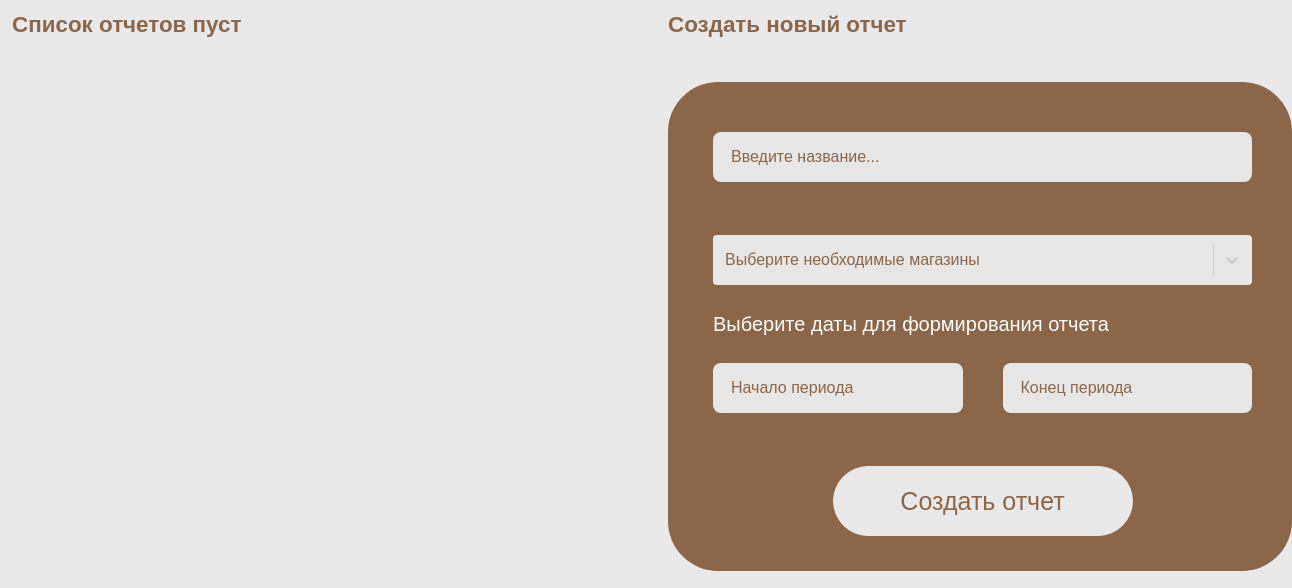
Reports form boundary validation › показывает все ошибки при пустой отправке
Click the button "Создать отчет" at (982, 501), box [832,466,1132,536]
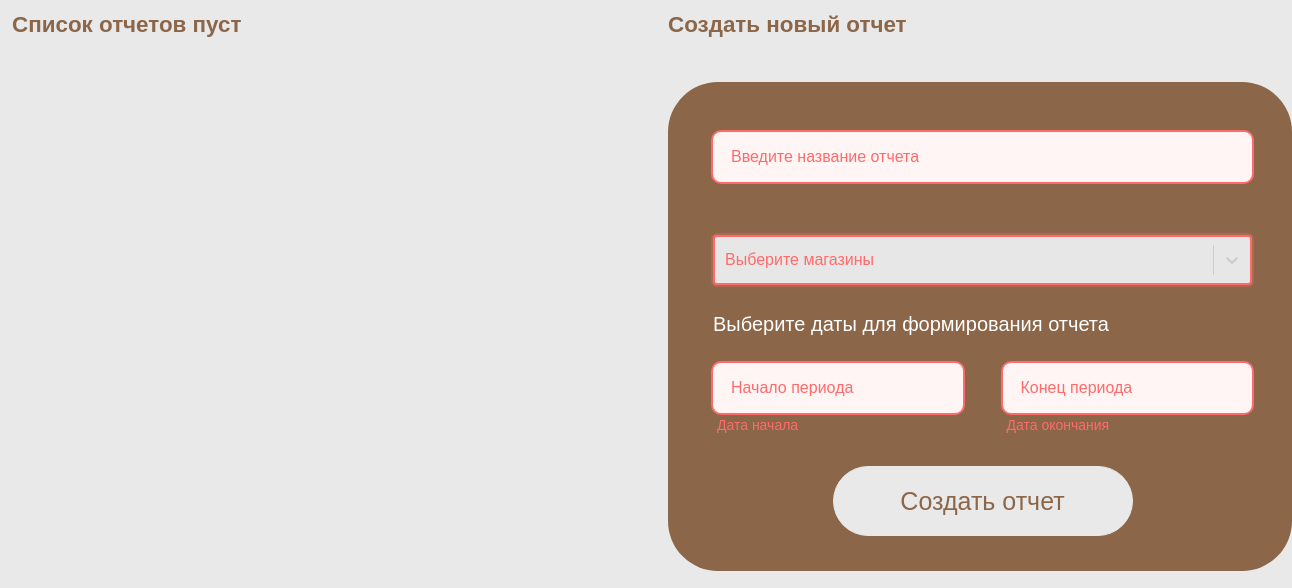
Now the field with placeholder "Введите название отчета" is shown, box [713,132,1252,182]
Now the text "Выберите магазины" is shown, box [725,251,874,268]
Now the text "Дата начала" is shown, box [717,417,798,433]
